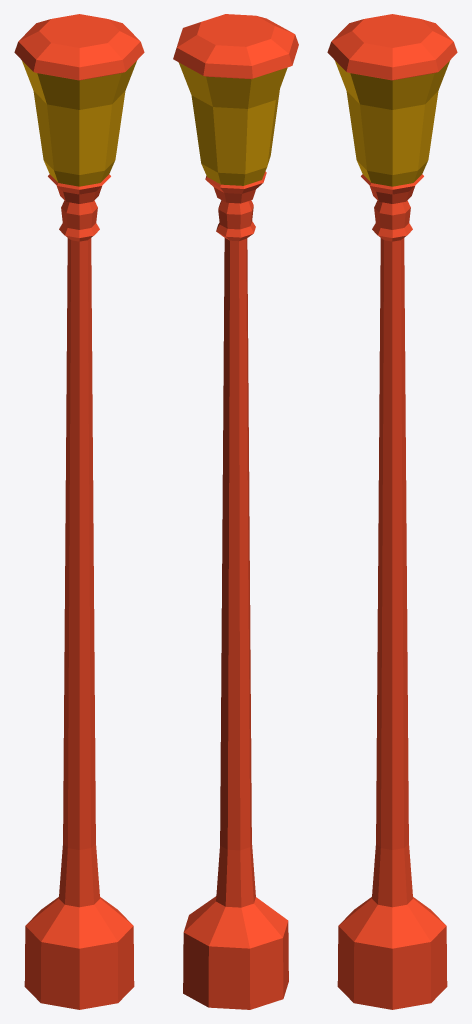
File: SM_Lamp_Sidewalk_D_City.fbx
3 views of the same model, side by side, from view 1: azimuth 90°, elevation 25°; view 2: azimuth 150°, elevation 25°; view 3: azimuth 270°, elevation 25° (orthographic).
Visible parts, largest first — view 1: SM_Lamp_Sidewalk_D_City; view 2: SM_Lamp_Sidewalk_D_City; view 3: SM_Lamp_Sidewalk_D_City.
Boxes of the visible parts, x1=… form: SM_Lamp_Sidewalk_D_City: x1=14, y1=14, x2=144, y2=1009; SM_Lamp_Sidewalk_D_City: x1=173, y1=14, x2=298, y2=1009; SM_Lamp_Sidewalk_D_City: x1=327, y1=14, x2=457, y2=1009.
Size of the model in its own units: 0.4959 by 4.02 by 0.4959.
